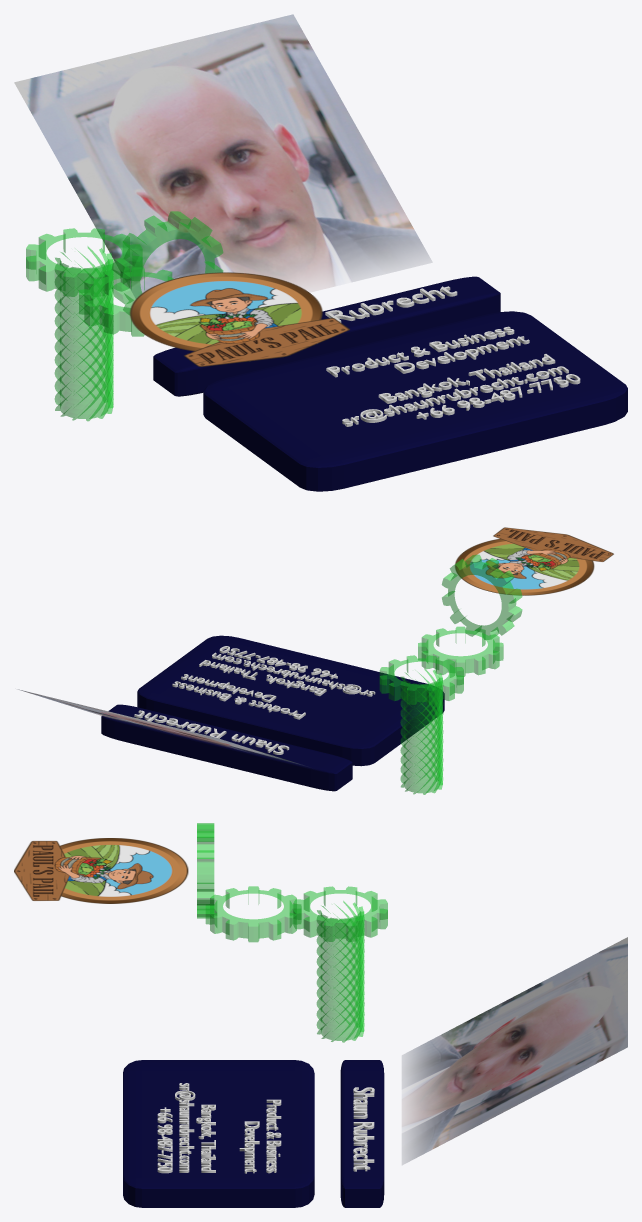
File: ShaunGears2.gltf
3 renders of one model, top to bottom at view 1: azimuth 30°, elevation 25°; view 2: azimuth 150°, elevation 25°; view 3: azimuth 270°, elevation 25°, orthographic. The views are drawn at different scales.
Parts seen in each view (by area): view 1: ShaunFace, Roundcube.001, PPlogo, Roundcube, Worm Gear, text.001, Gear.001, Gear, Gear.002, Text; view 2: Roundcube.001, Roundcube, PPlogo, Worm Gear, text.001, Gear, Gear.002, Gear.001, ShaunFace, Text; view 3: ShaunFace, Roundcube.001, PPlogo, Worm Gear, Roundcube, text.001, Gear.001, Gear.002, Gear, Text.
Boxes of the visible parts, x1,y1,x2,y2 form: ShaunFace: [14, 14, 431, 298]; Roundcube.001: [203, 311, 627, 491]; PPlogo: [130, 272, 349, 366]; Roundcube: [153, 276, 500, 396]; Worm Gear: [54, 246, 113, 421]; text.001: [326, 326, 580, 426]; Gear.001: [26, 228, 142, 296]; Gear: [111, 211, 223, 315]; Gear.002: [79, 267, 173, 336]; Text: [325, 286, 457, 322]; Roundcube.001: [137, 635, 444, 766]; Roundcube: [101, 704, 352, 791]; PPlogo: [455, 527, 613, 595]; Worm Gear: [400, 668, 443, 794]; text.001: [172, 646, 375, 719]; Gear: [442, 554, 522, 639]; Gear.002: [418, 626, 503, 676]; Gear.001: [379, 655, 463, 704]; ShaunFace: [17, 689, 307, 766]; Text: [134, 710, 289, 754]; ShaunFace: [402, 937, 627, 1164]; Roundcube.001: [123, 1060, 314, 1207]; PPlogo: [14, 838, 188, 903]; Worm Gear: [316, 901, 364, 1042]; Roundcube: [340, 1060, 384, 1207]; text.001: [157, 1083, 281, 1173]; Gear.001: [293, 886, 387, 941]; Gear.002: [205, 886, 301, 942]; Gear: [197, 823, 214, 918]; Text: [353, 1087, 374, 1171].
Size of the model in its own units: 10.79 by 5.49 by 14.1.
Materials: 5 (2 with a texture image).
